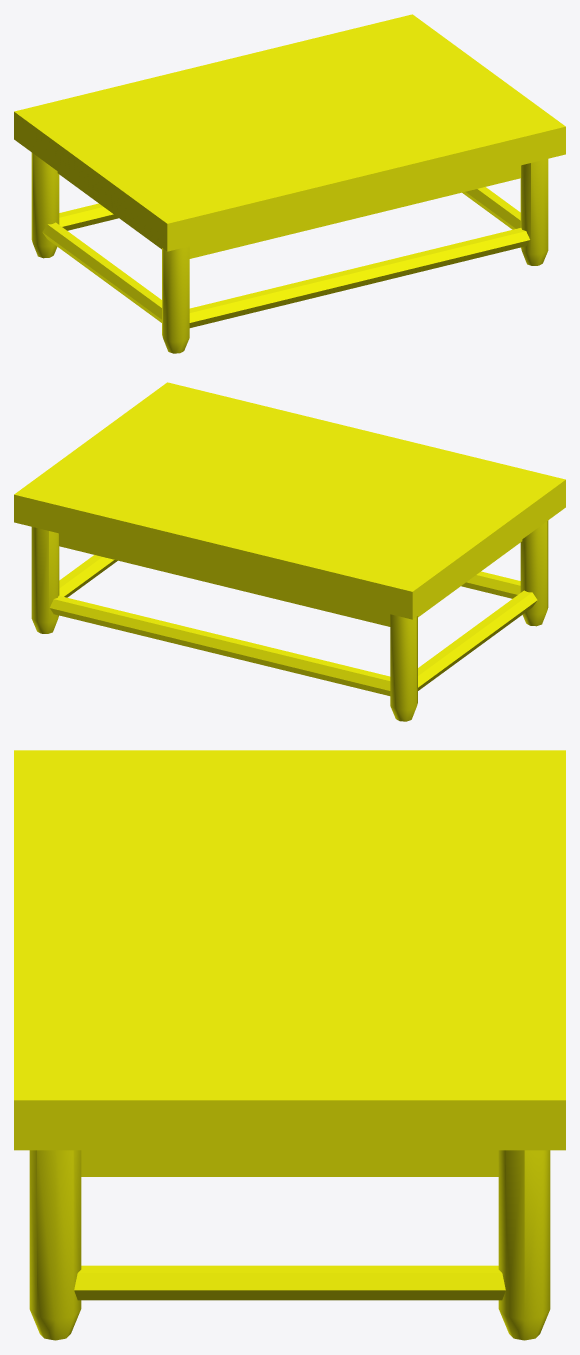
File: kitchentable_A_large.gltf
The picture shows the model from 3 angles, top to bottom: view 1: azimuth 30°, elevation 25°; view 2: azimuth 150°, elevation 25°; view 3: azimuth 270°, elevation 25°; orthographic projection. The views are drawn at different scales.
Parts seen in each view (by area): view 1: kitchentable_A_large; view 2: kitchentable_A_large; view 3: kitchentable_A_large.
Boxes of the visible parts, <box> form: kitchentable_A_large: <box>14,14,565,353</box>; kitchentable_A_large: <box>14,382,565,721</box>; kitchentable_A_large: <box>14,750,565,1340</box>.
Bounding box in the file's own units: 3 × 1 × 2.
Materials: 1 (1 with a texture image).
